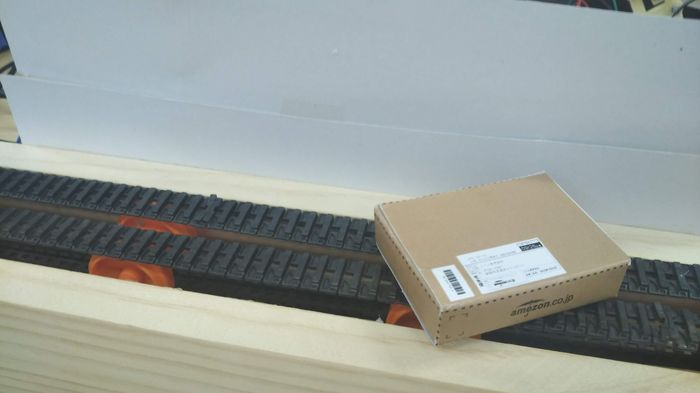box2: (369, 166, 632, 347)
